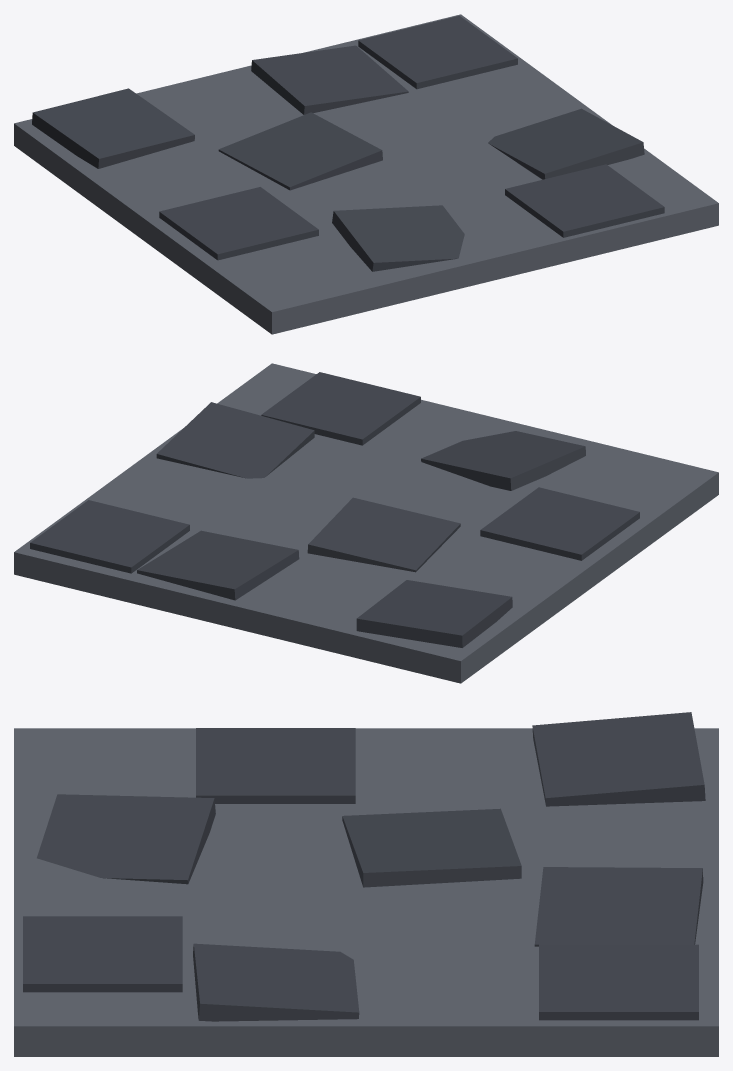
The model's file is Floor03.fbx.
The picture shows the model from 3 angles, top to bottom: view 1: azimuth 30°, elevation 25°; view 2: azimuth 150°, elevation 25°; view 3: azimuth 270°, elevation 25°; orthographic projection. The views are drawn at different scales.
Parts seen in each view (by area): view 1: Cube.003; view 2: Cube.003; view 3: Cube.003.
Boxes of the visible parts, x1=… form: Cube.003: x1=14, y1=14, x2=718, y2=334; Cube.003: x1=14, y1=363, x2=718, y2=683; Cube.003: x1=14, y1=712, x2=718, y2=1056.
Size of the model in its own units: 200 by 16.48 by 200.
